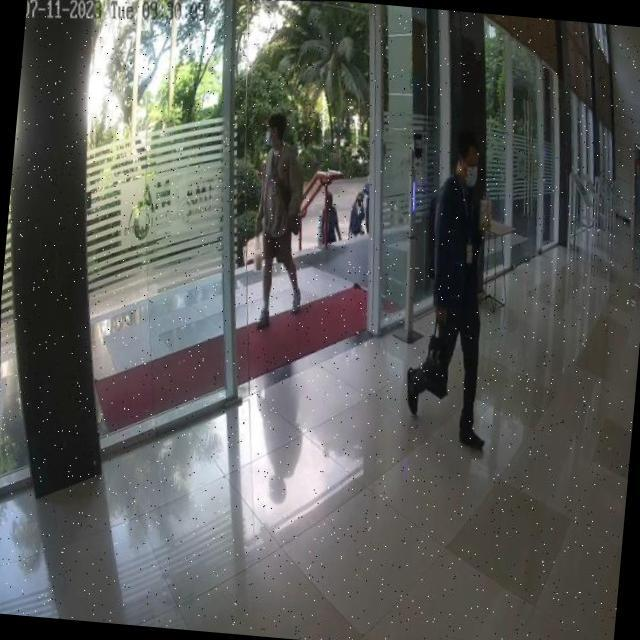person: (388, 132, 511, 446), (242, 111, 318, 327)
